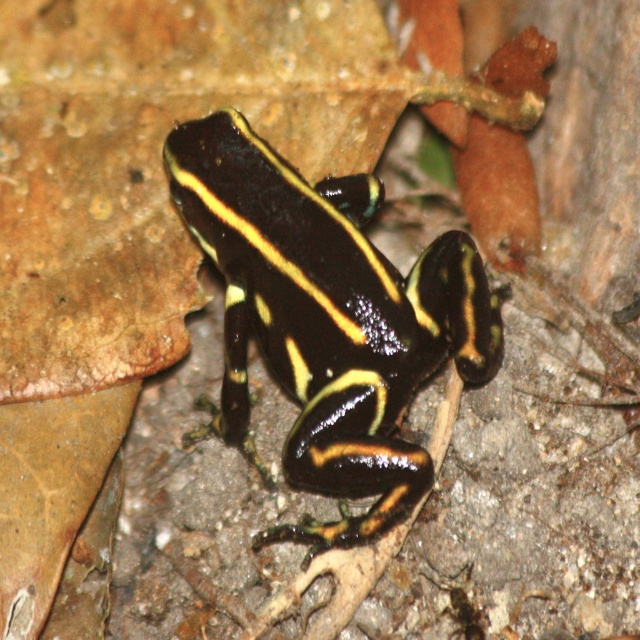Frog: (162, 105, 512, 571)
